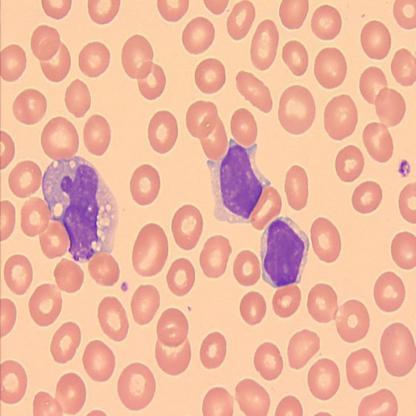Lymphocyte: (206, 137, 272, 225), (259, 214, 310, 288)
